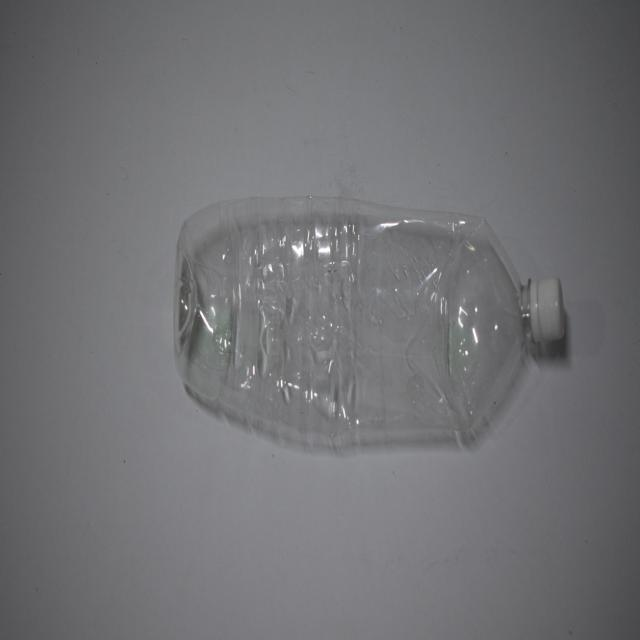empty: (174, 197, 564, 448)
